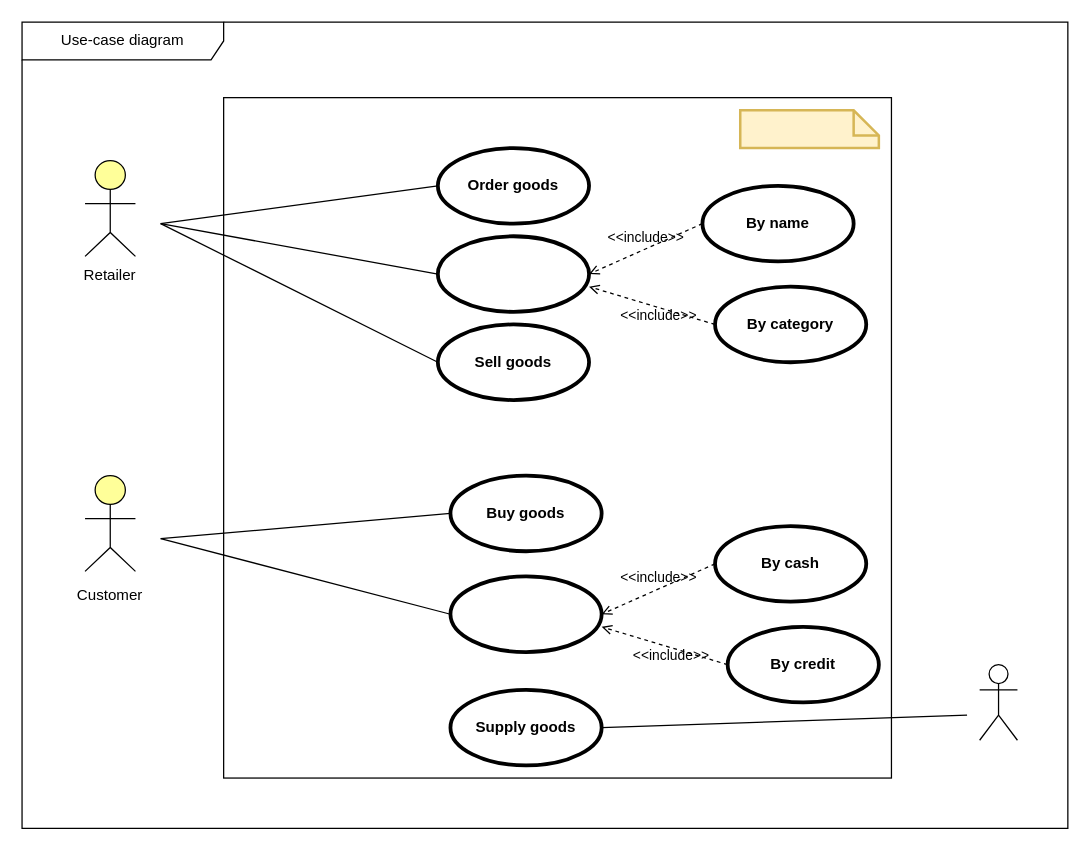
Some shapes in this 1090 by 851 pixel diagram are drawn without their labels. The centre of each missing label's shape, as x and y in pixels:
"Arrange goods" belongs at pixel 512 273.
"Perform payment" belongs at pixel 525 613.
"Supplier" belongs at pixel 997 701.
"System" belongs at pixel 808 128.
